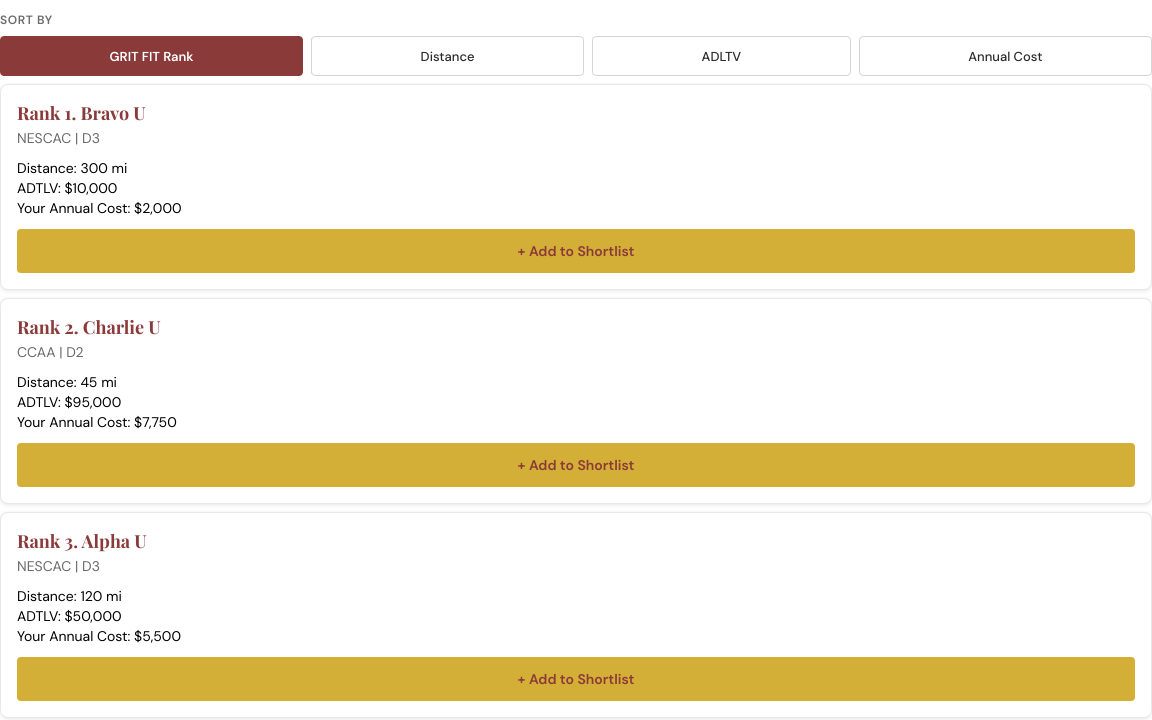
Test: G7b — mobile row tap opens SchoolDetailsCard in SlideOutShell › (b) tapping a mobile row opens the slide-out with the correct school
The image size is (1152, 720).
Note: Tap Bravo U card (matchRank 1).
Click the button with test id "result-card-1" at (576, 278), box [0,84,1151,290]
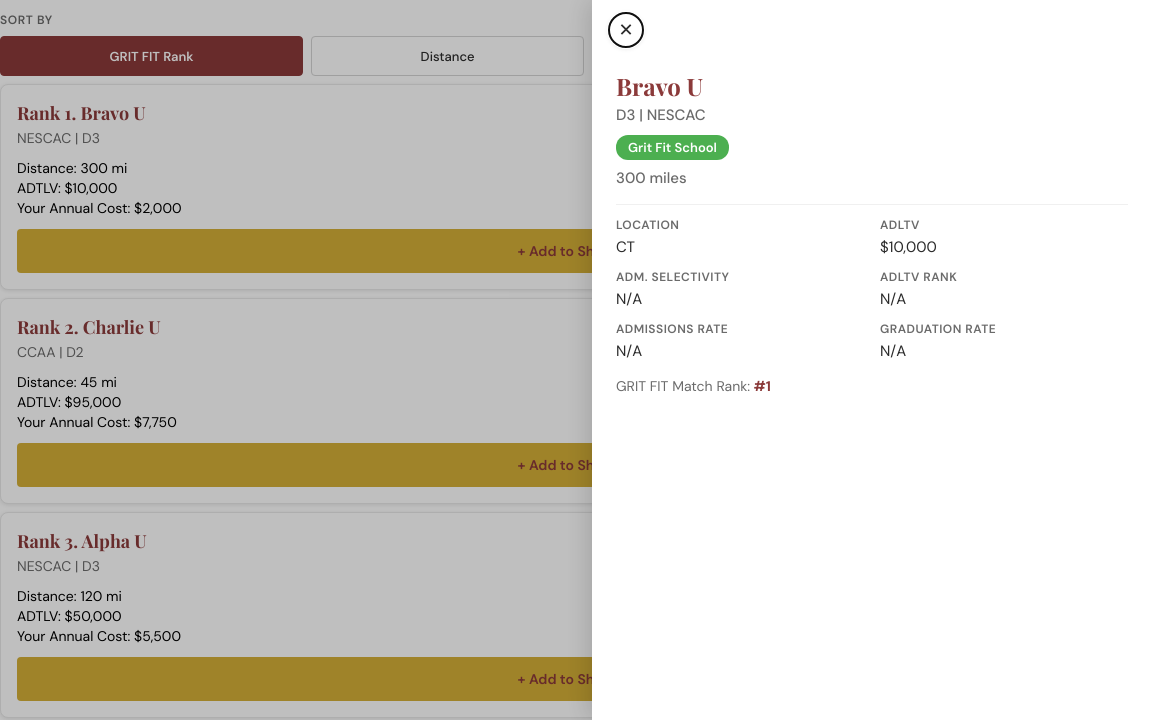
Expected: the dialog with test id "slide-out-shell-panel" is shown, [592,0,1151,719]
Expected: the heading with test id "sdc-school-name" reads "Bravo U", [616,70,703,102]
